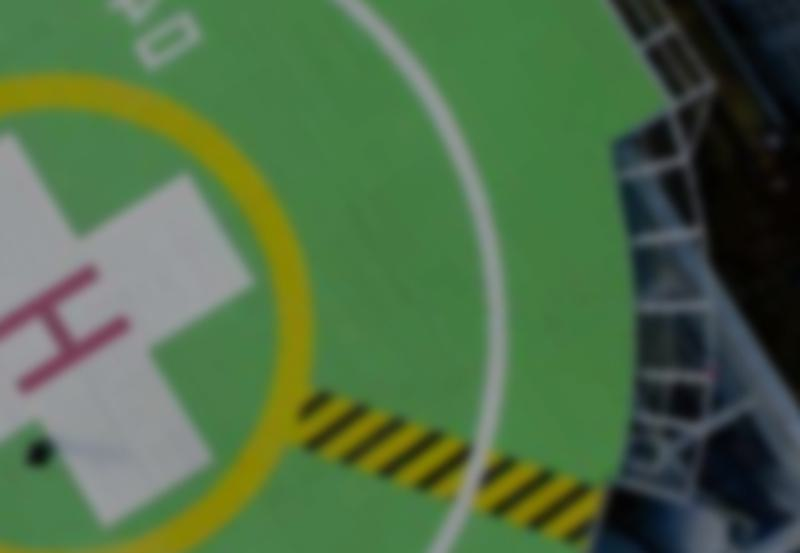Apron: (1, 69, 313, 549)
